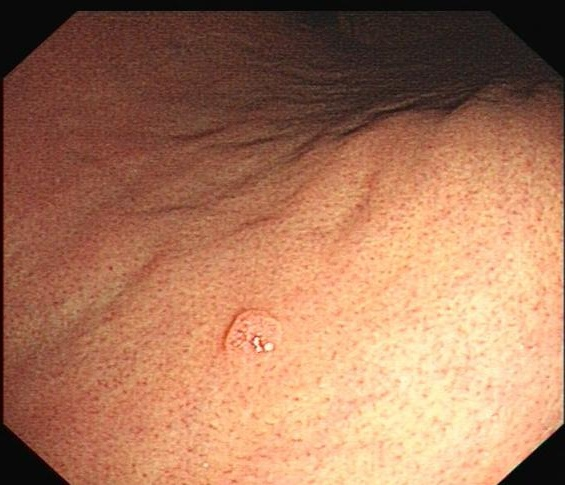Polyp: (222, 305, 284, 359)
